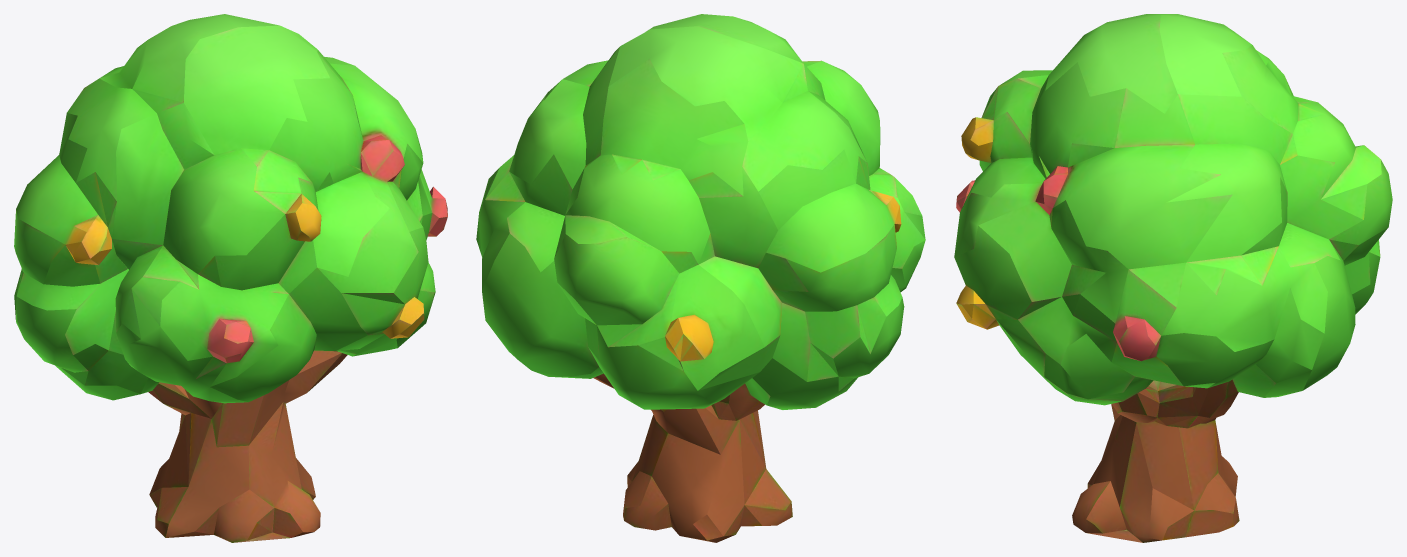
File: tree.glb
3 renders of one model, left to right at view 1: azimuth 30°, elevation 25°; view 2: azimuth 150°, elevation 25°; view 3: azimuth 270°, elevation 25°, orthographic.
Size of the model in its own units: 1.66 by 1.89 by 1.56.
1 material, 1 textured.
